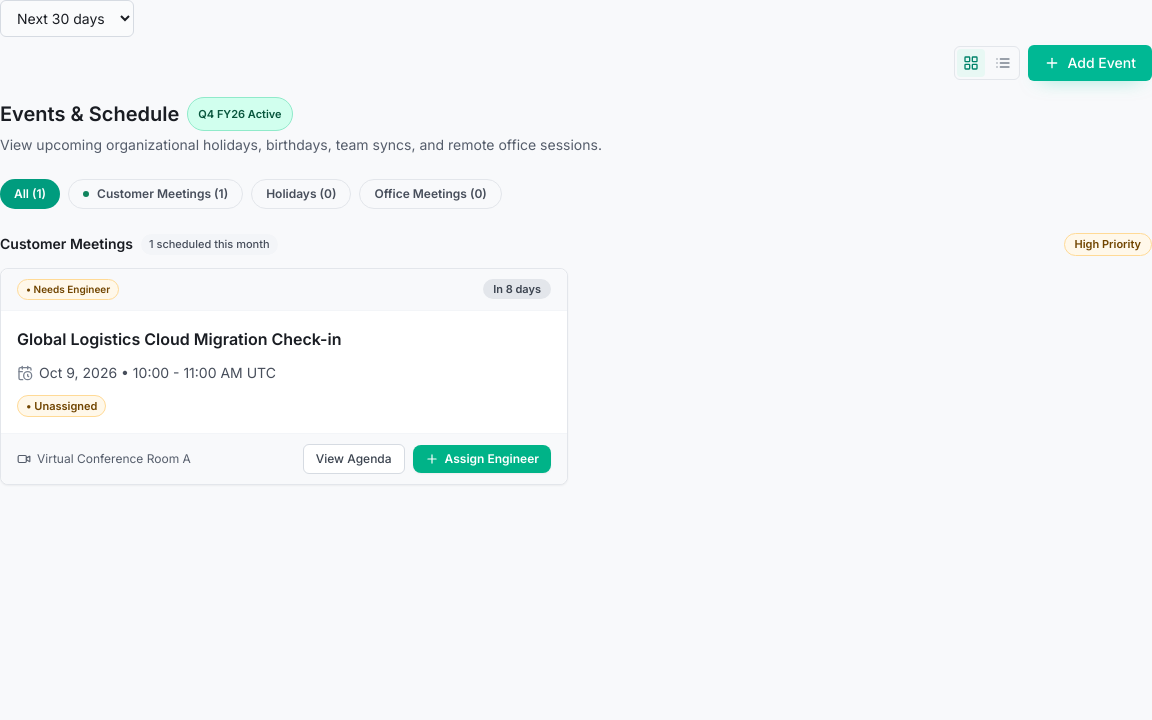
Test: Customer Meeting cards › filters the results from the first typed character
This screenshot has width=1152, height=720.
Click the button "Assign Engineer" at (482, 459), box [413,445,551,473]
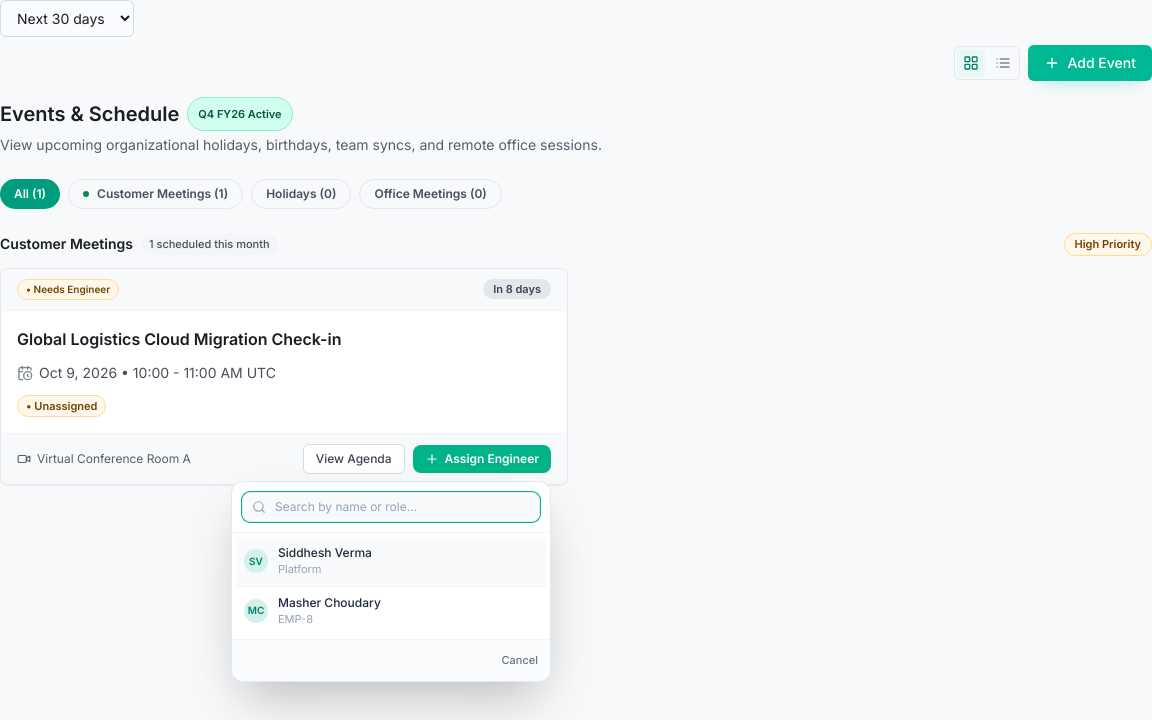
Note: "v" only appears in Siddhesh Verma, so one keystroke must isolate him.
Type "v" into the dropdown named "Search engineers" at (391, 507), box [242,492,540,522]
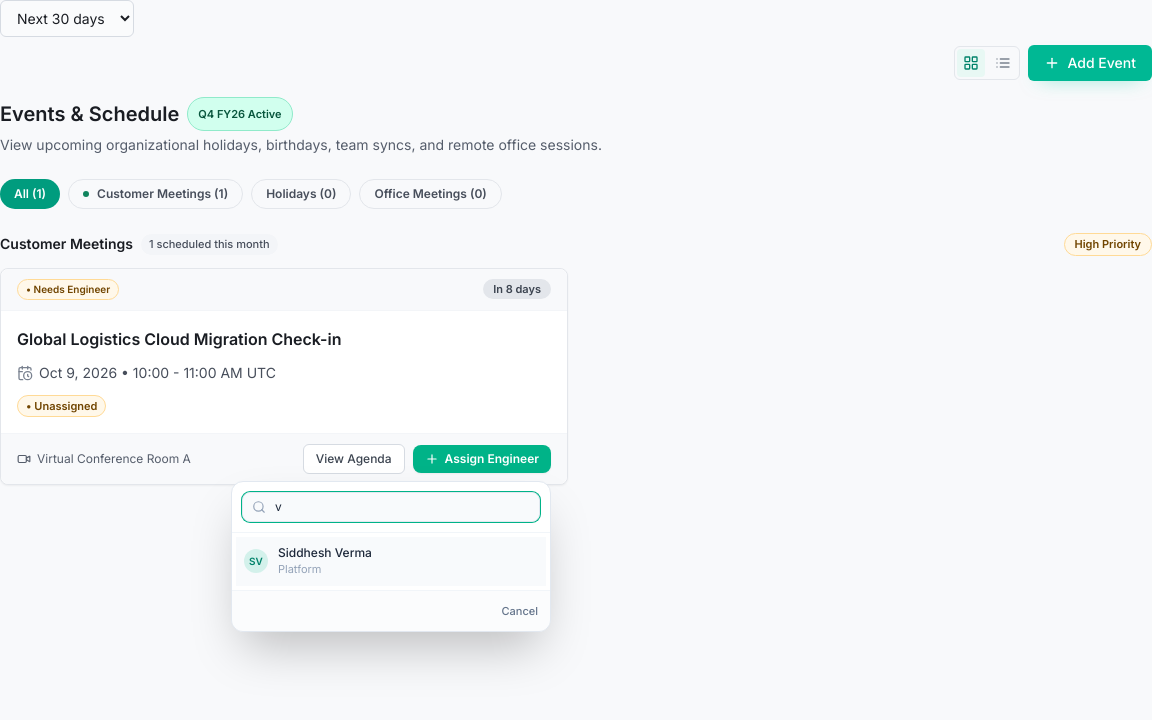
expect the button "SV Siddhesh Verma Platform" is shown: met, box [236,537,546,586]
expect the button "Masher Choudary" is gone: met
